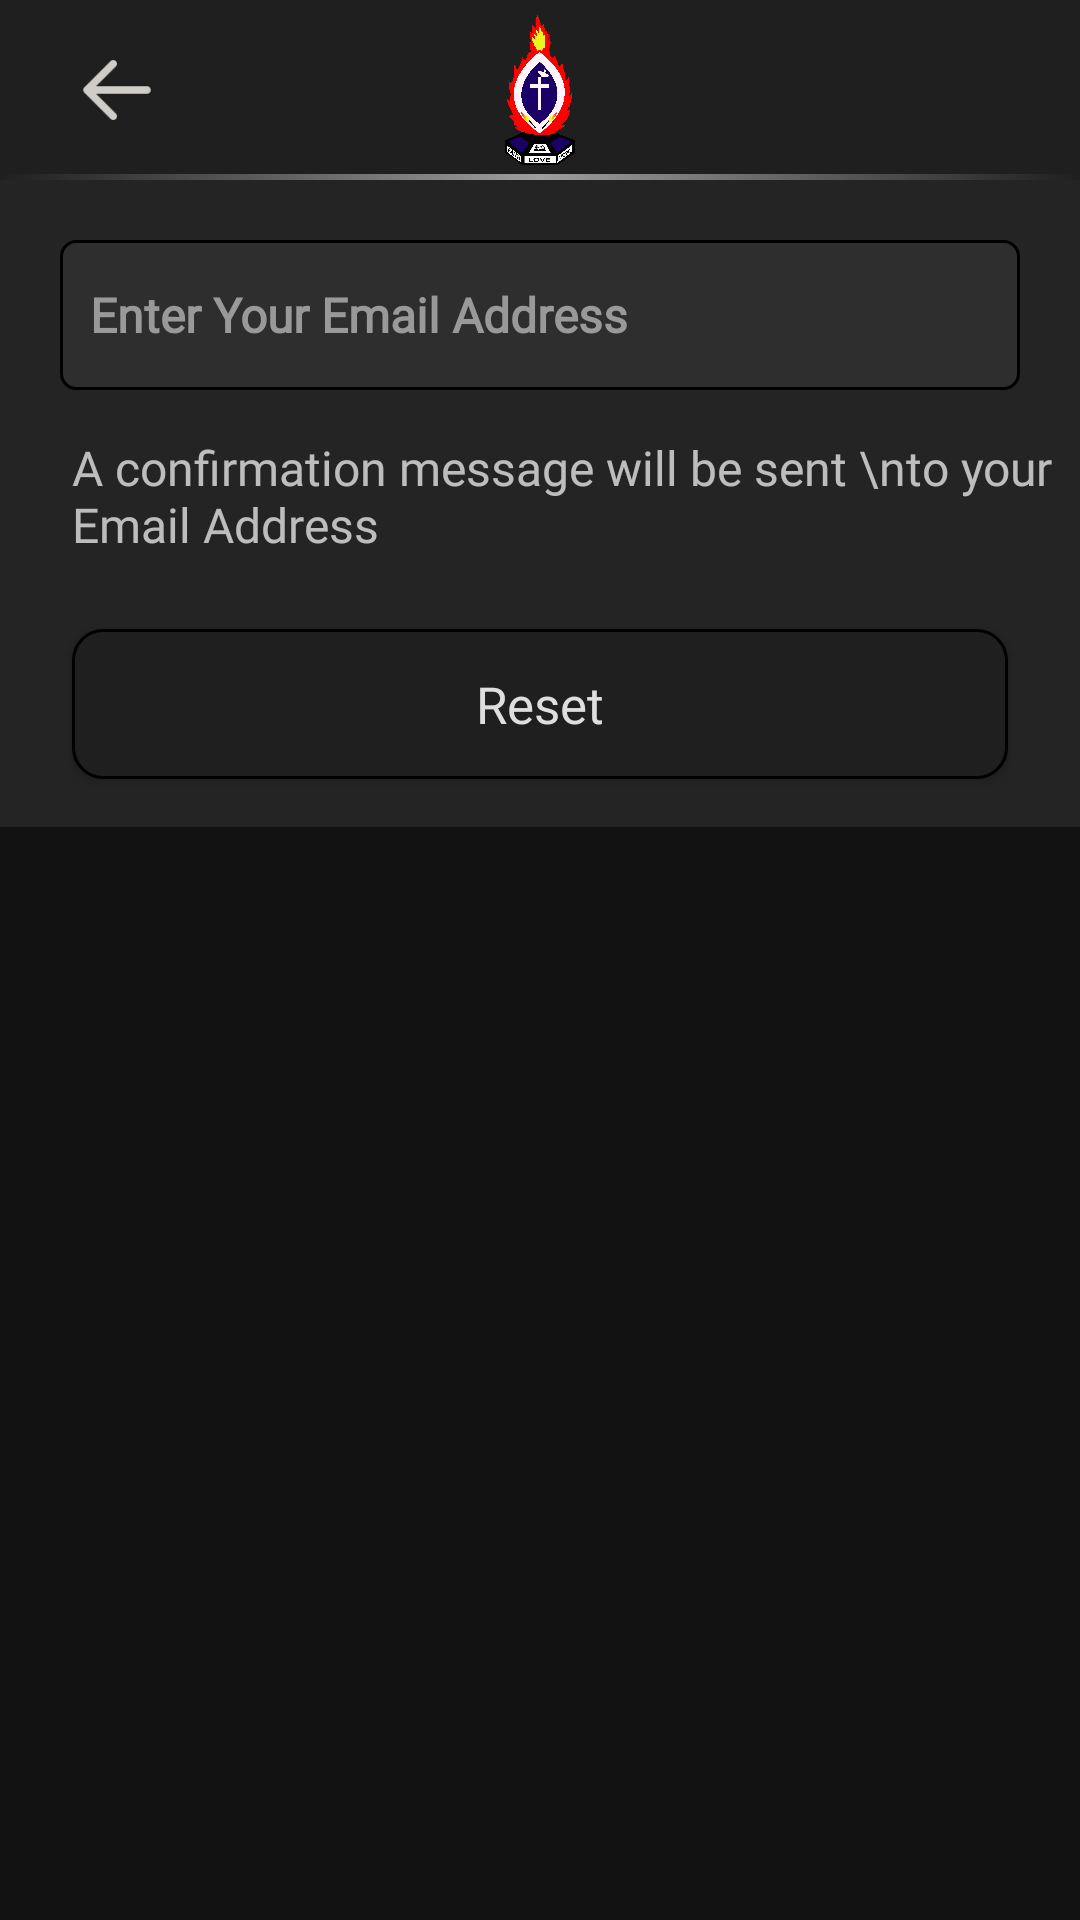

Screen size 1080px×1920px. Icon name, then its center in pixels as point (x, y):
windows back: point (117, 90)
